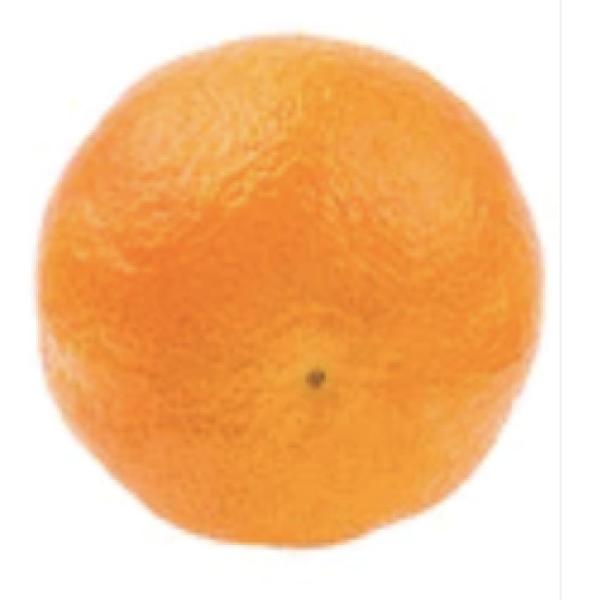Sana: (25, 20, 551, 564)
